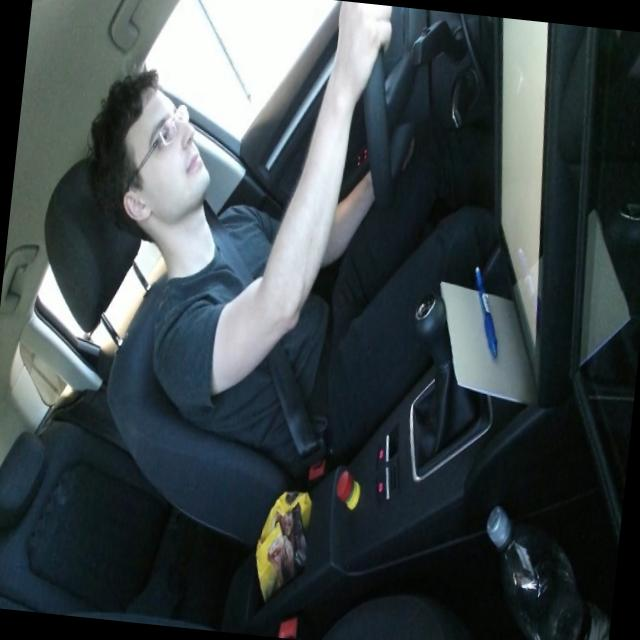pen: (464, 262, 506, 359)
